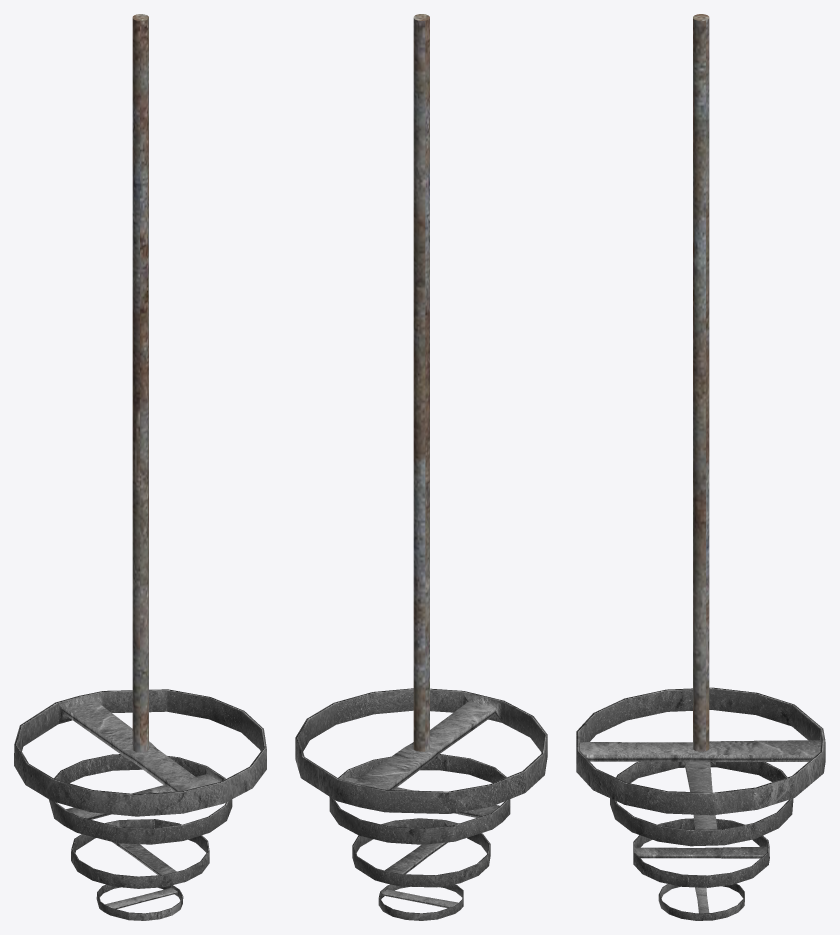
Rendered from Chandelier_ToPaint.fbx.
3 views of the same model, side by side, from view 1: azimuth 30°, elevation 25°; view 2: azimuth 150°, elevation 25°; view 3: azimuth 270°, elevation 25° (orthographic).
Parts seen in each view (by area): view 1: polySurface5, polySurface1; view 2: polySurface5, polySurface1; view 3: polySurface5, polySurface1.
Part boxes in pixels (left/top/right/bottom): polySurface5: left=14, top=689, right=266, bottom=920; polySurface1: left=132, top=14, right=148, bottom=752; polySurface5: left=295, top=688, right=547, bottom=920; polySurface1: left=413, top=14, right=429, bottom=751; polySurface5: left=576, top=687, right=825, bottom=920; polySurface1: left=693, top=14, right=709, bottom=751.
Bounding box in the file's own units: 0.1096 × 0.4241 × 0.1082.
2 materials, 2 textured.
